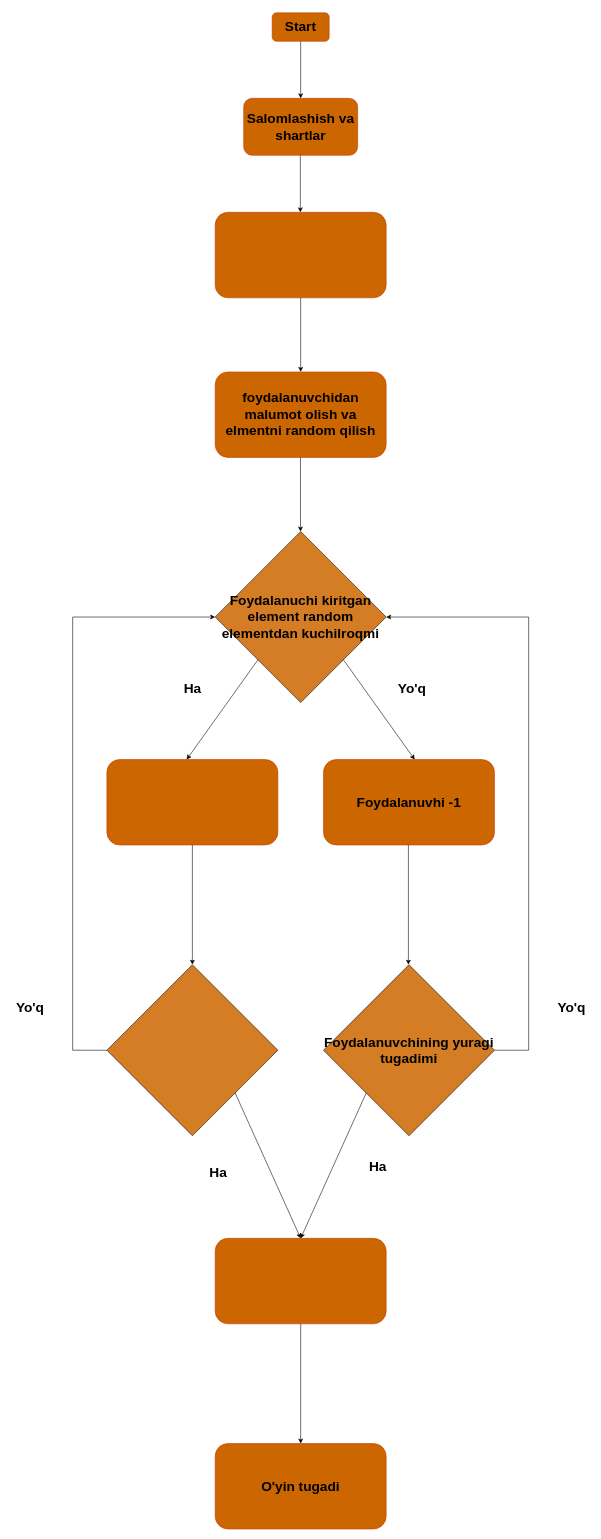
This 601x1539 diagram has some shape labels left out. Each missing label, with the box of its shape:
boshlang'ich qiymatlar va rasmalrni va randomni import qilish: (215, 212, 386, 298)
Compyuter -1: (106, 759, 278, 845)
Compyuterning yuragi tugadimi: (106, 964, 278, 1136)
Shu yutdi: (215, 1238, 386, 1324)
